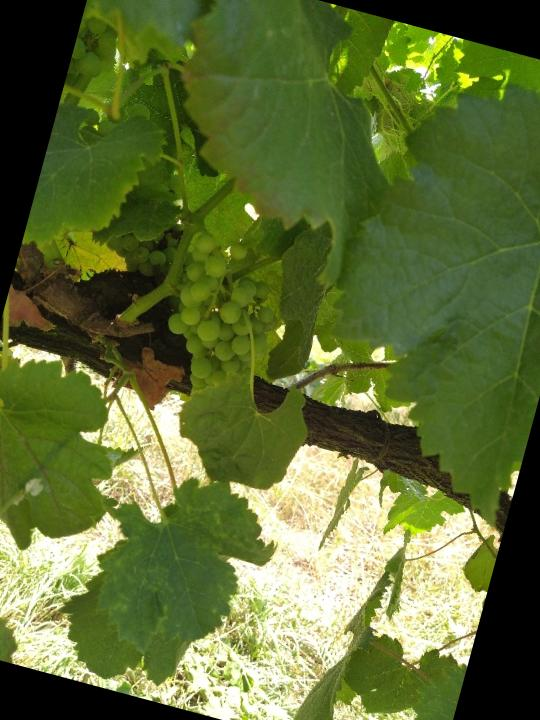grape: (151, 224, 302, 416)
